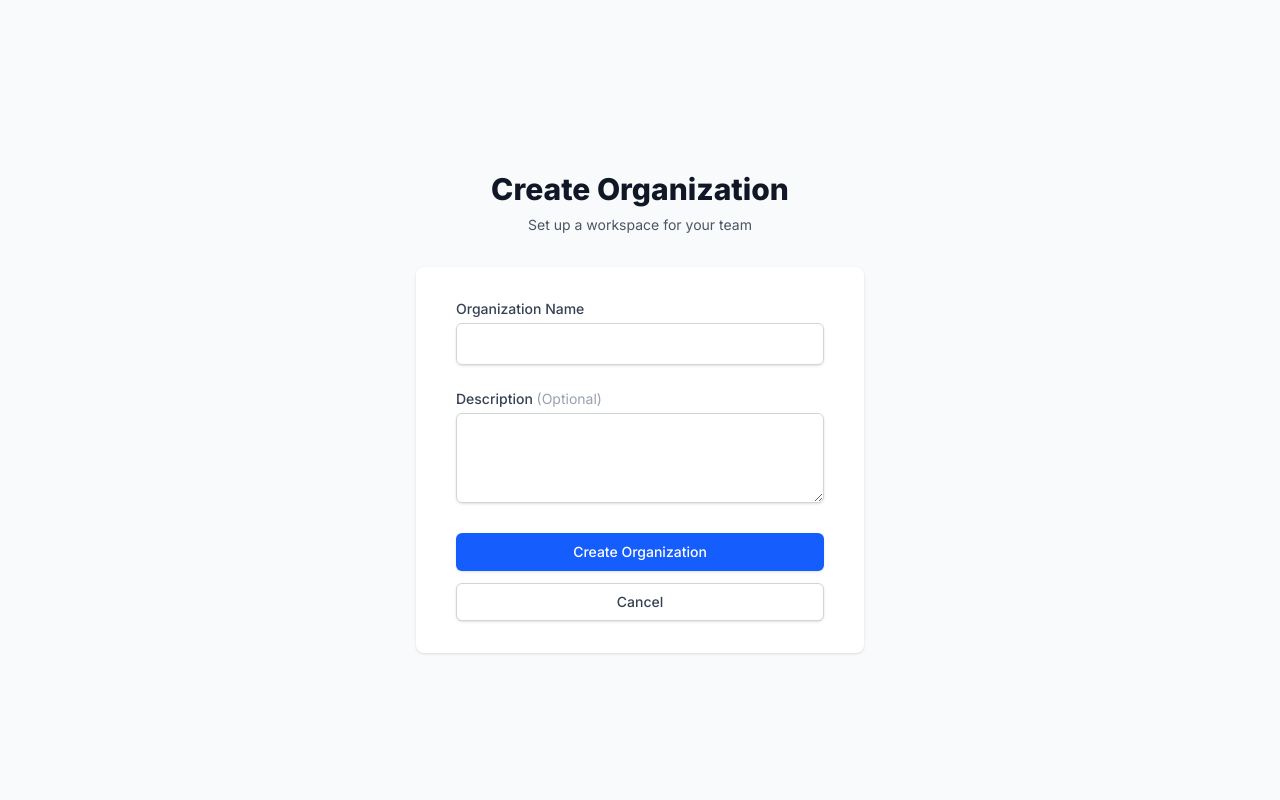
Organization Onboarding & Workspace › 5, 6, 7. Successful organization creation, selection, and navigation
Type "My New Org" into the field labelled "Organization Name".
click(640, 344); type("My New Org")  # box [456,323,824,365]
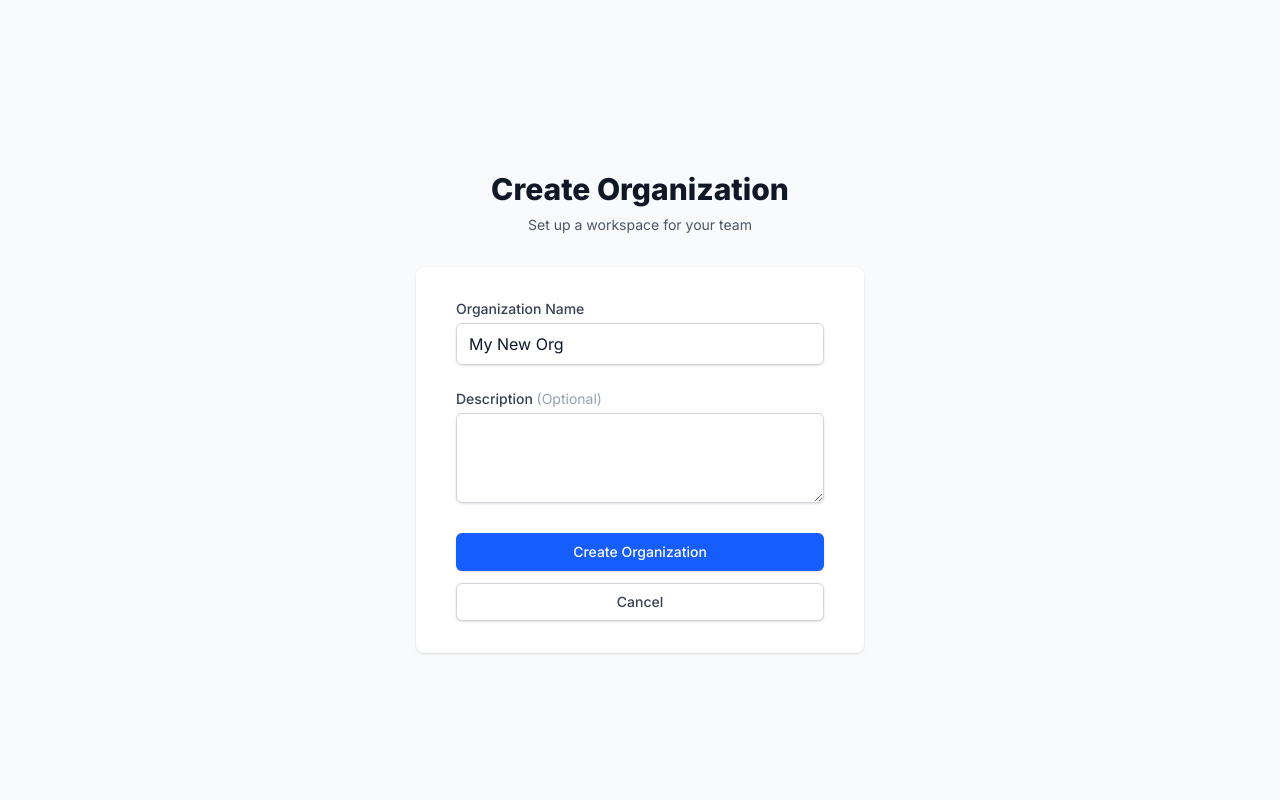
Click the button "Create Organization".
click(640, 552)  # box [456,533,824,571]
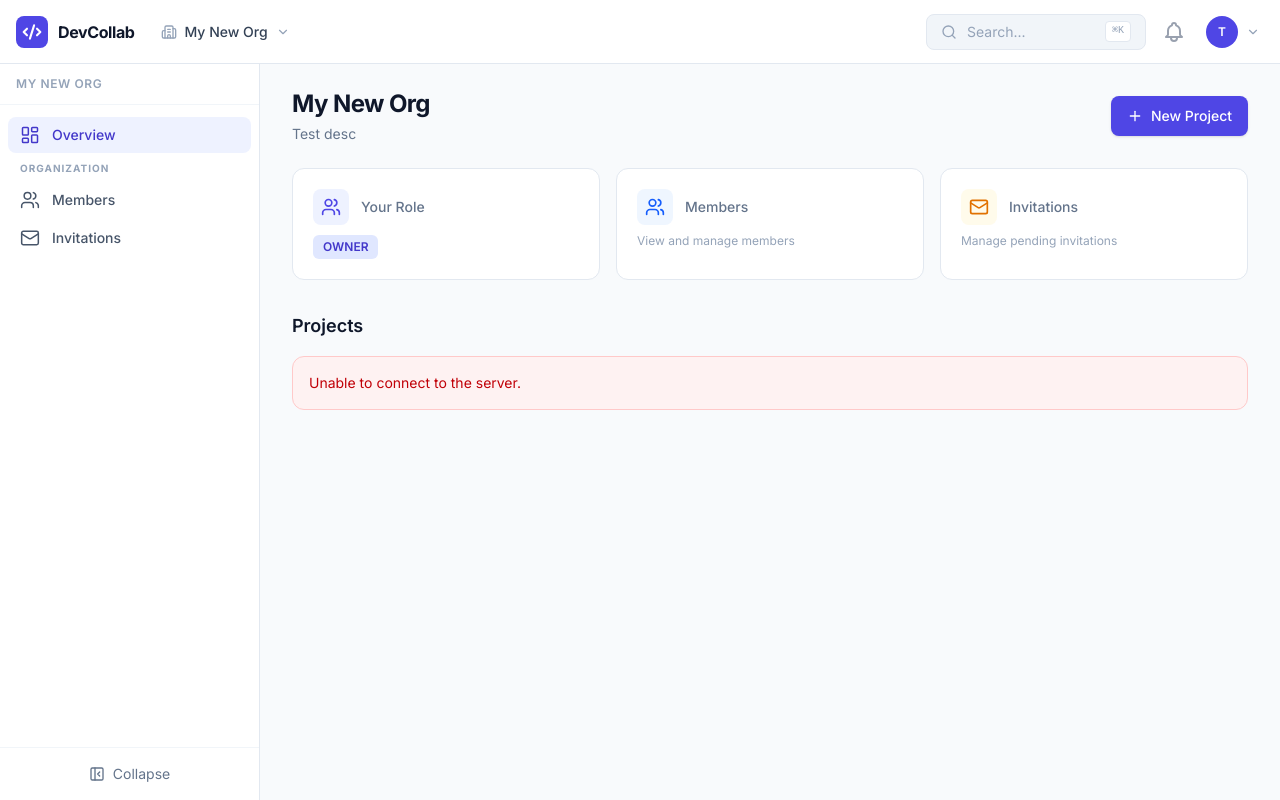
Result: the heading "My New Org" is shown at [292,88,430,120]
Result: the text "Test desc" is shown at [292,125,356,142]
Result: the text "OWNER" is shown at [313,235,378,259]
